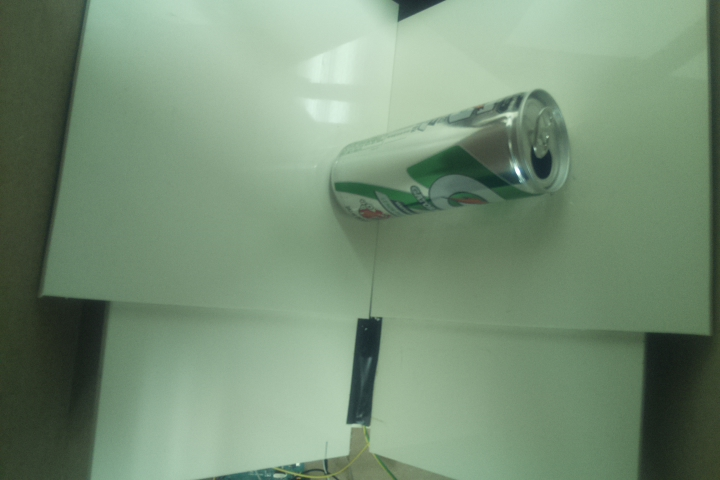can: (325, 86, 573, 228)
